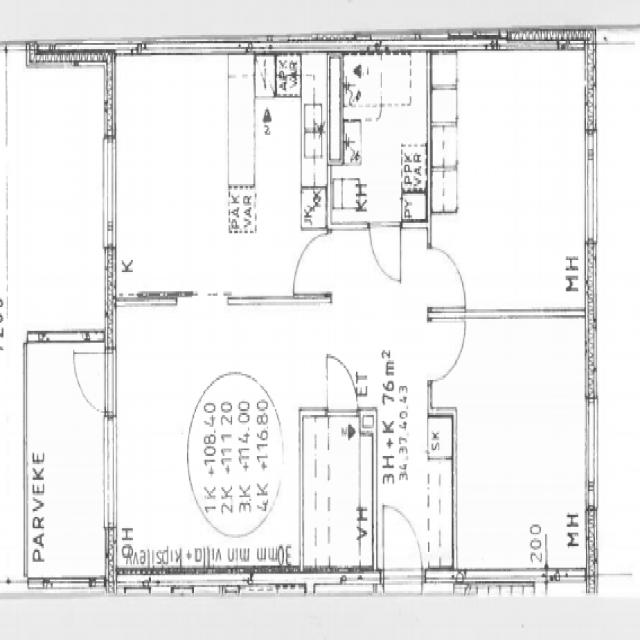door: (384, 498, 422, 584), (67, 349, 116, 414), (425, 250, 463, 308), (294, 234, 331, 293), (425, 325, 461, 379), (327, 356, 358, 418), (370, 223, 400, 284)
